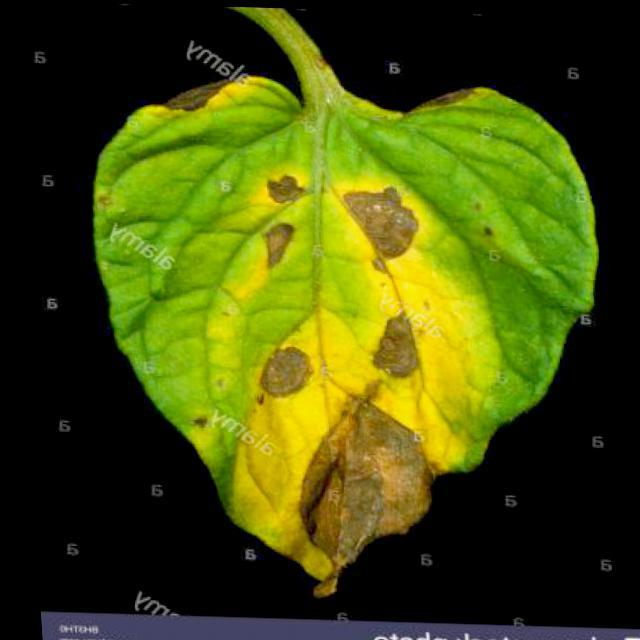Tomato Early blight leaf: (94, 14, 611, 606)
